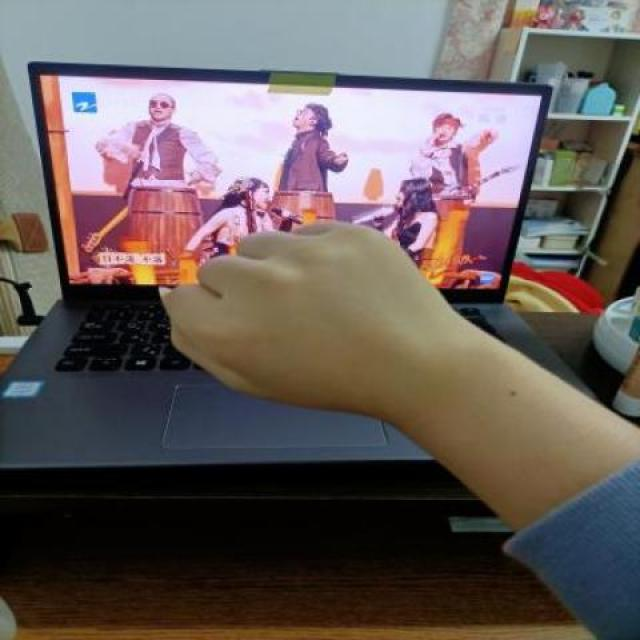Closed Hand: (154, 217, 467, 440)
